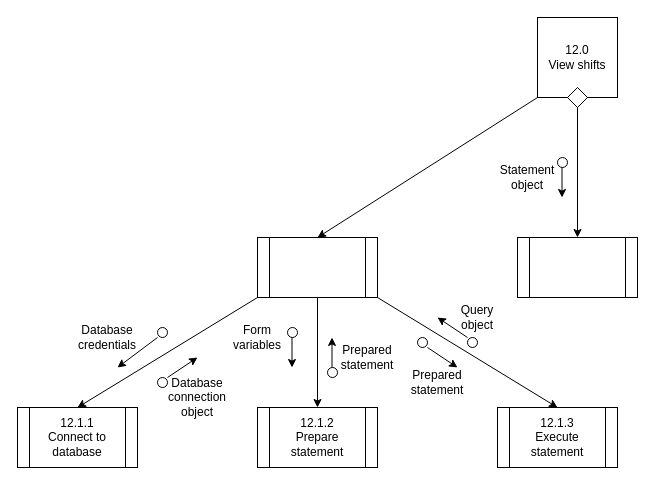
The diagram is 655 pixels wide and 485 high, and some of its shapes have lost their labels. The shapes that lost their labels are listed below. From the top down, each one's box as (x1, y1, x2, y2) in pixels, then its label:
(256, 236, 378, 298): 12.1 Query database
(516, 236, 638, 298): 12.2 Display query details
